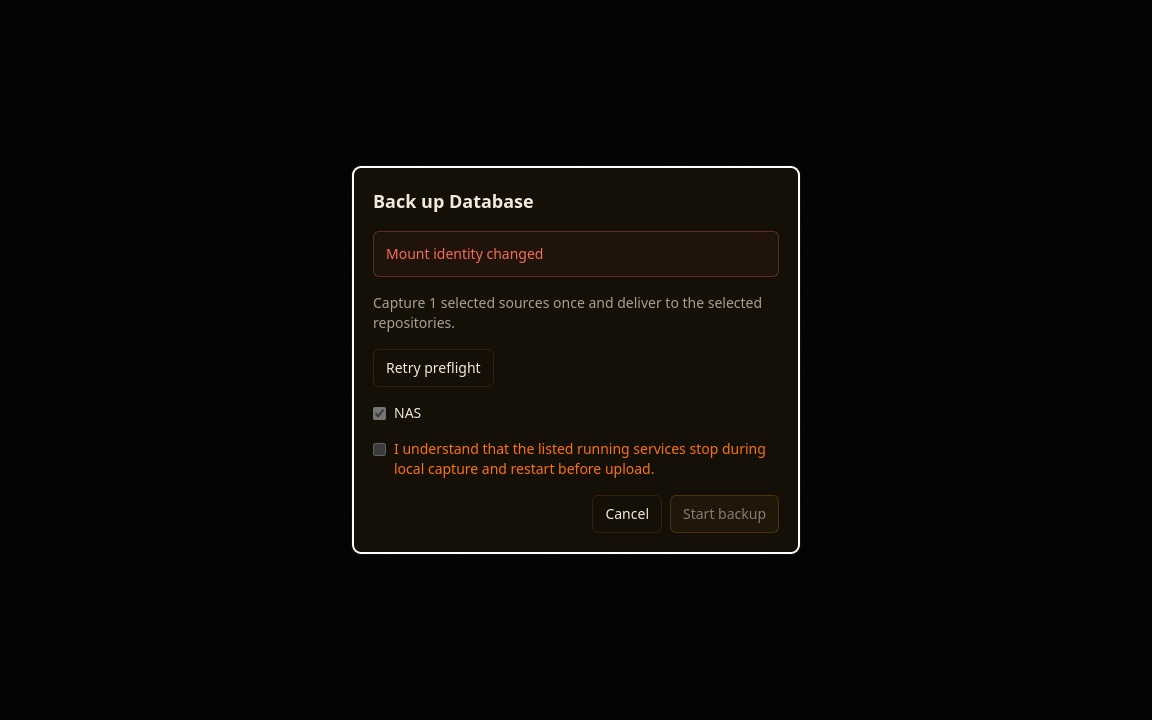
Test: Protection and operations › blocks capture until concrete writers have been reviewed and preflight succeeds
Expected: the text "Mount identity changed" is shown, [373, 231, 779, 277]
Expected: the checkbox labelled "I understand" is disabled, [373, 443, 386, 456]
Click the button "Retry preflight". click: {"x": 433, "y": 368}
box: [373, 349, 494, 387]
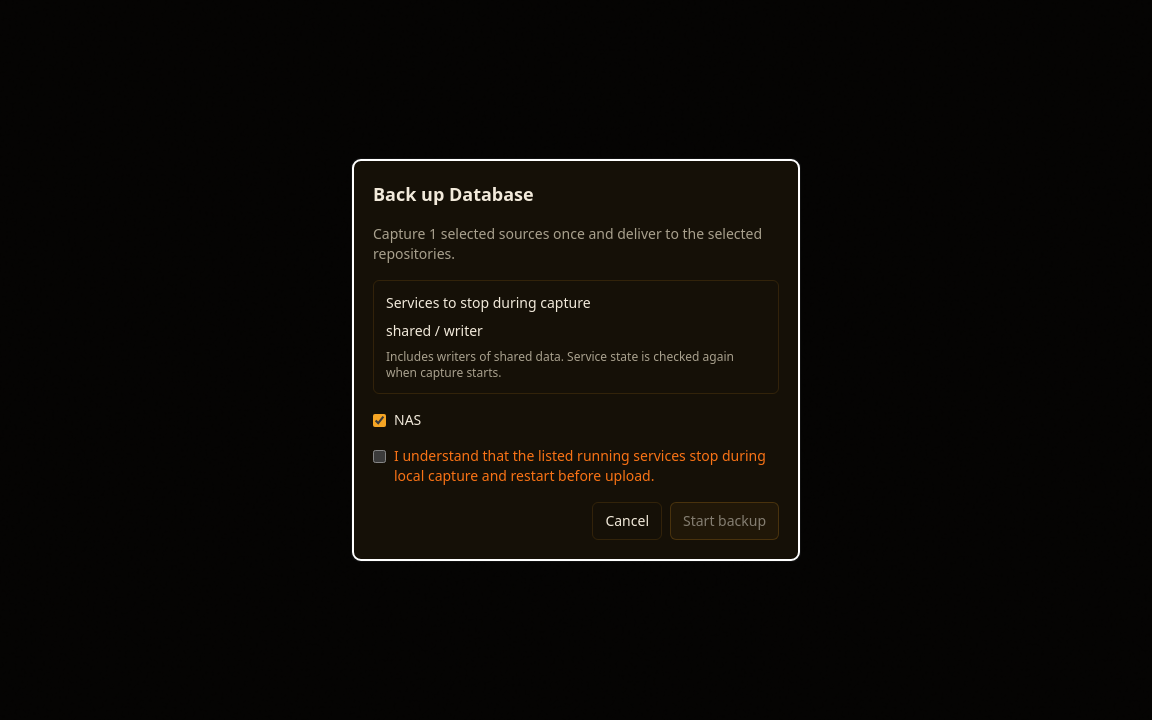
Expected: the list item "shared / writer" is shown, [386, 321, 483, 340]
Click the checkbox labelled "I understand". click: {"x": 380, "y": 456}
box: [373, 450, 386, 463]
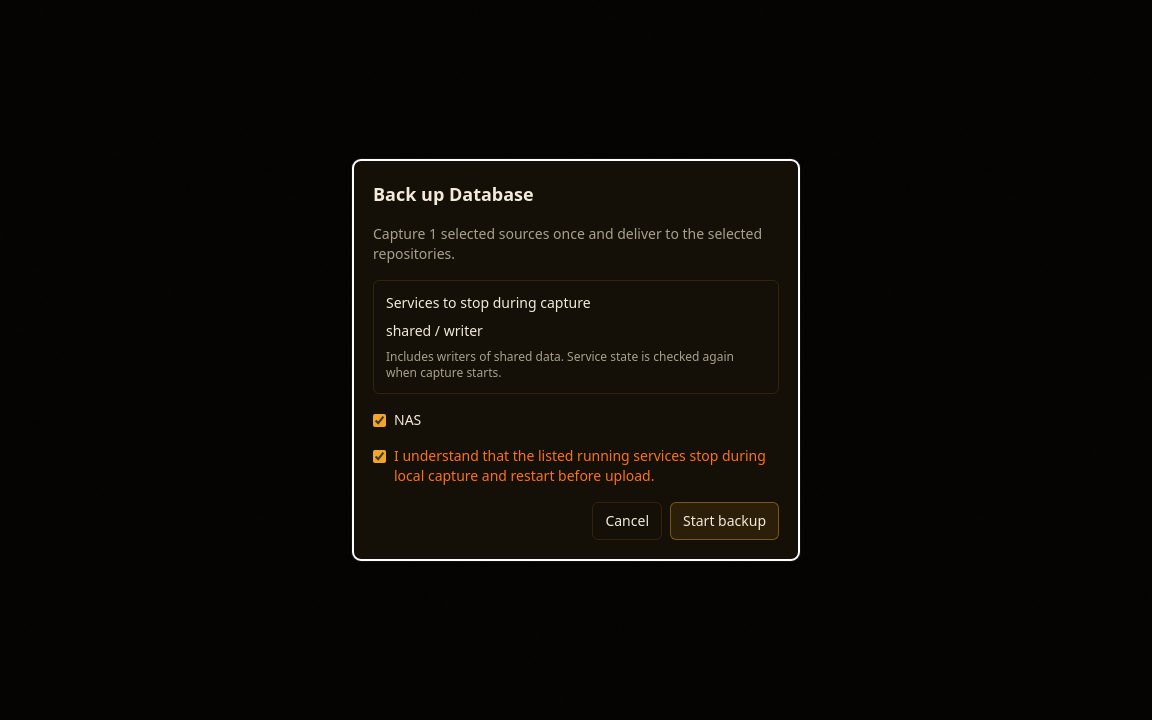
Expected: the button "Start backup" is enabled, [670, 502, 779, 540]
